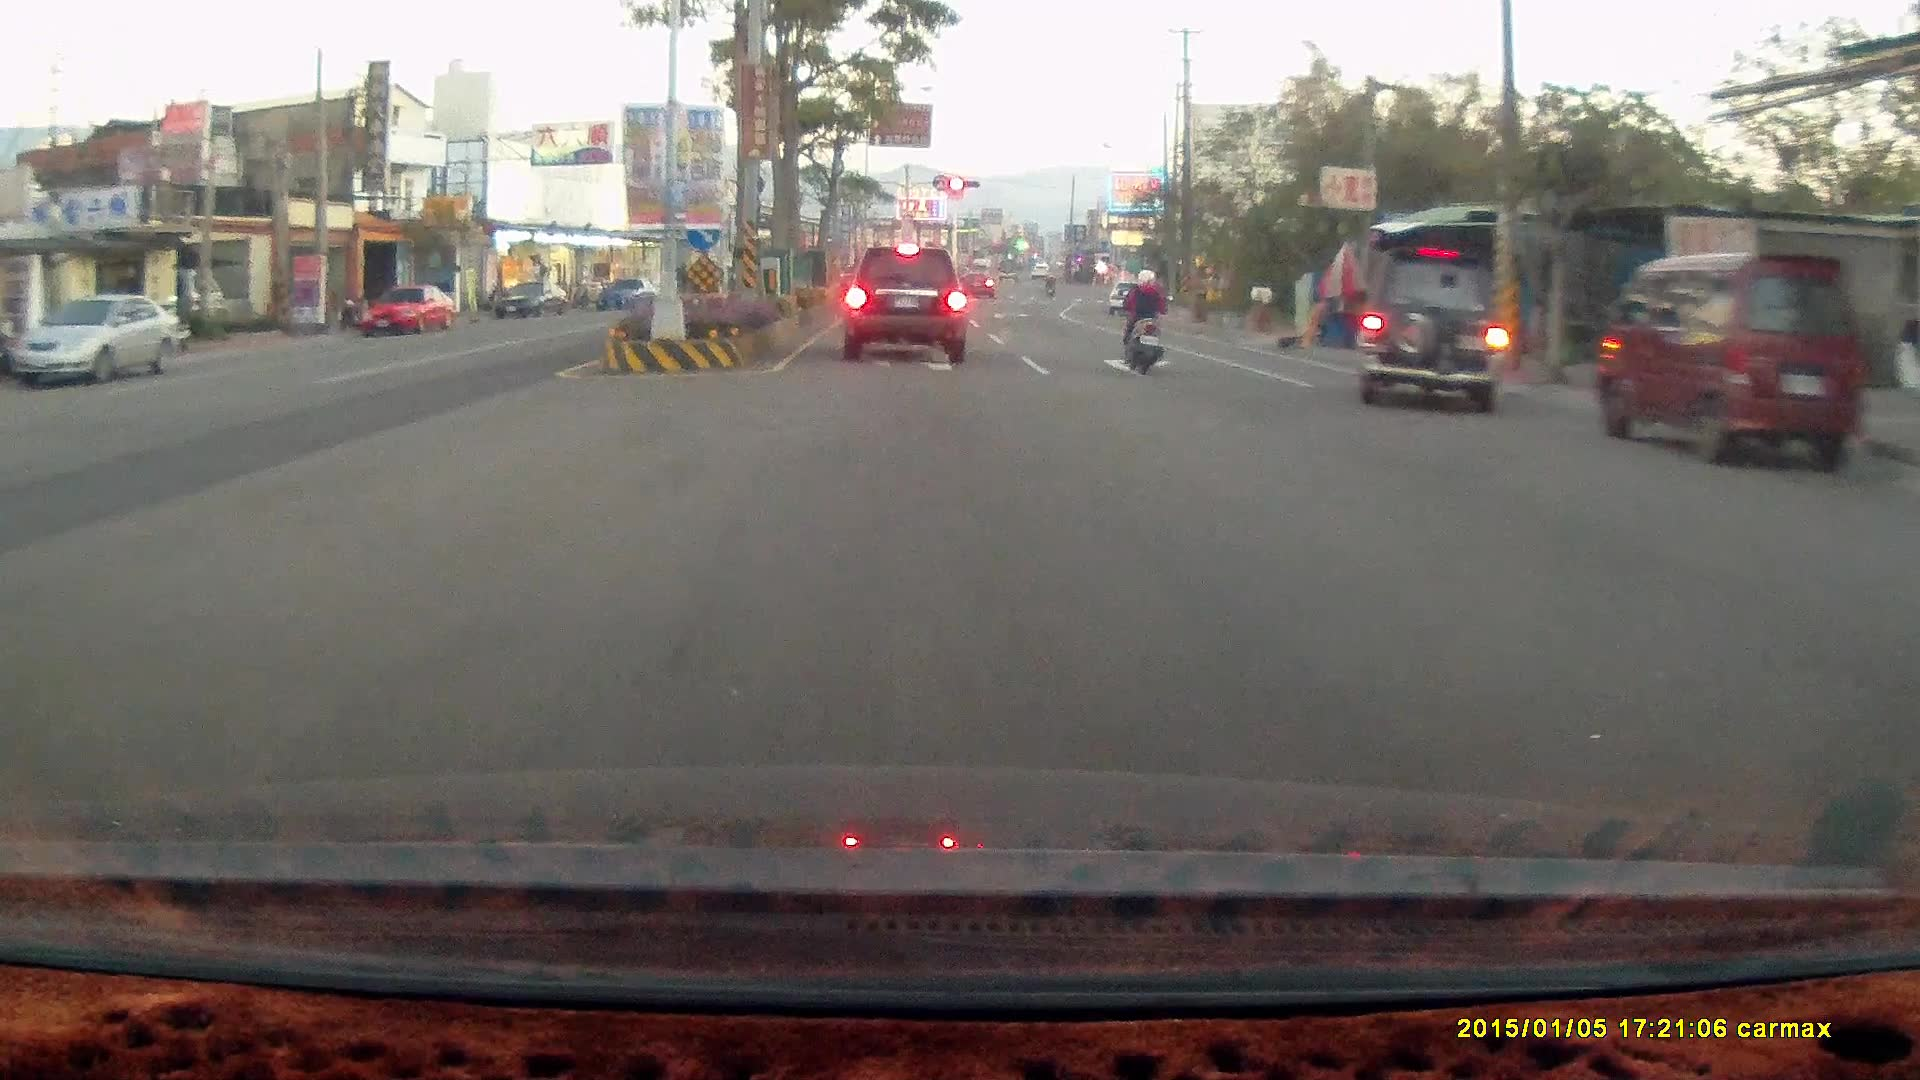rider: (1119, 267, 1169, 377)
vehicle: (1592, 252, 1863, 473), (1596, 257, 1862, 475), (1355, 255, 1518, 425), (1353, 245, 1507, 414), (10, 293, 178, 393), (11, 292, 179, 386), (840, 245, 965, 363), (1896, 493, 1920, 836), (1883, 528, 1920, 690), (358, 285, 458, 338), (358, 284, 457, 335), (1107, 281, 1155, 316)
